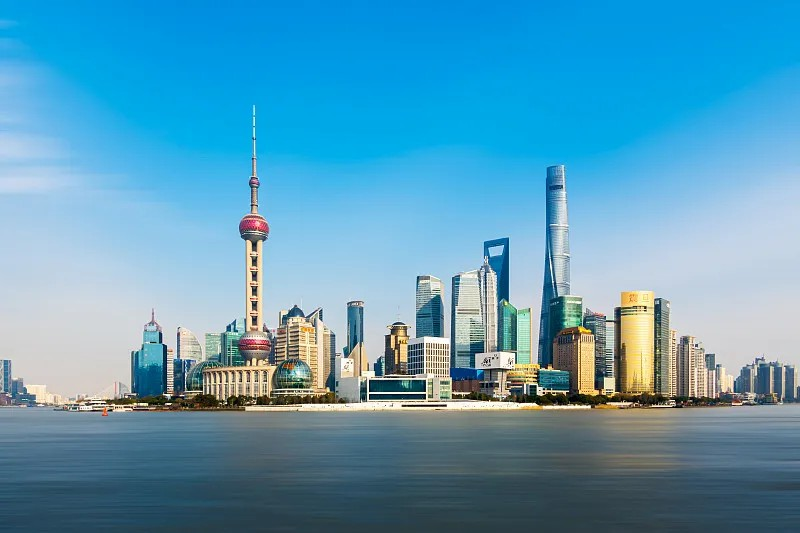Oriental: (237, 106, 271, 367)
